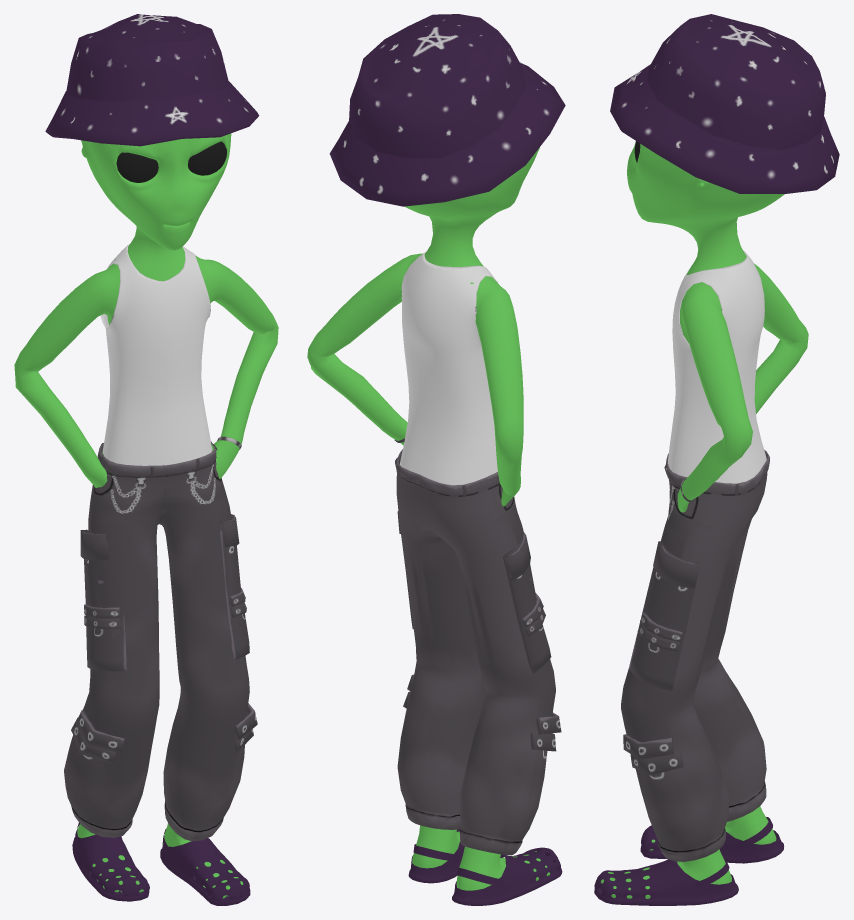
The model's file is AlienPosed.glb.
3 renders of one model, left to right at view 1: azimuth 30°, elevation 25°; view 2: azimuth 150°, elevation 25°; view 3: azimuth 270°, elevation 25°, orthographic.
Parts seen in each view (by area): view 1: Alien; view 2: Alien; view 3: Alien.
Boxes of the visible parts, x1=… form: Alien: x1=14, y1=14, x2=278, y2=905; Alien: x1=307, y1=14, x2=565, y2=905; Alien: x1=594, y1=14, x2=839, y2=905.
Bounding box in the file's own units: 3.04 × 10.49 × 2.73.
Materials: 3 (3 with a texture image).
